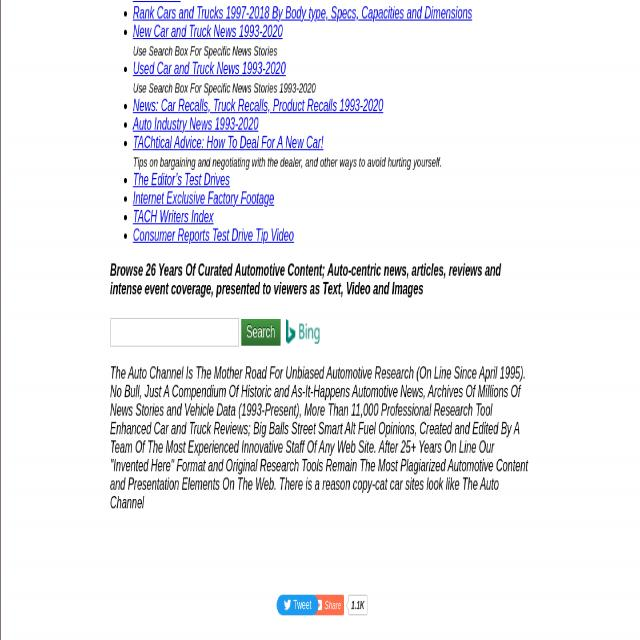button: (241, 319, 280, 346), (277, 596, 318, 616), (313, 594, 345, 615)
field: (110, 318, 238, 347)
